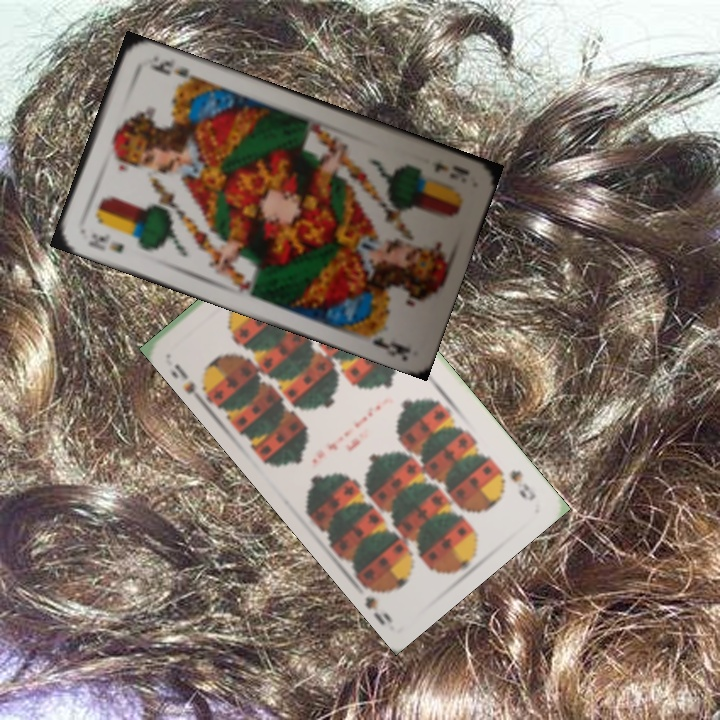EK: (83, 229, 127, 256), (429, 160, 472, 182)
S9: (168, 360, 216, 402), (505, 465, 539, 504)
